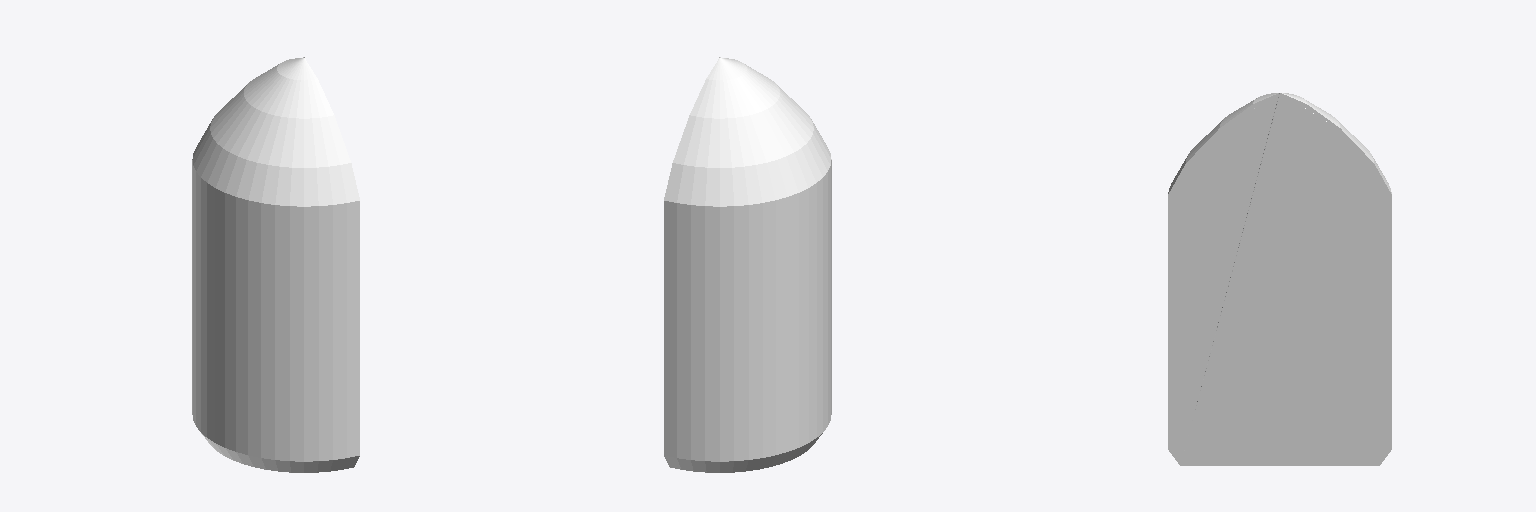
Rendered from falcon9fairing.obj.
The picture shows the model from 3 angles: view 1: azimuth 30°, elevation 25°; view 2: azimuth 150°, elevation 25°; view 3: azimuth 270°, elevation 25°; orthographic projection.
Visible parts, largest first — view 1: Tube1; view 2: Tube1; view 3: Tube1.
Boxes of the visible parts, x1=… form: Tube1: x1=192, y1=57, x2=359, y2=472; Tube1: x1=664, y1=57, x2=831, y2=472; Tube1: x1=1168, y1=93, x2=1391, y2=465.
Bounding box in the file's own units: 5.84 × 21.41 × 11.63.